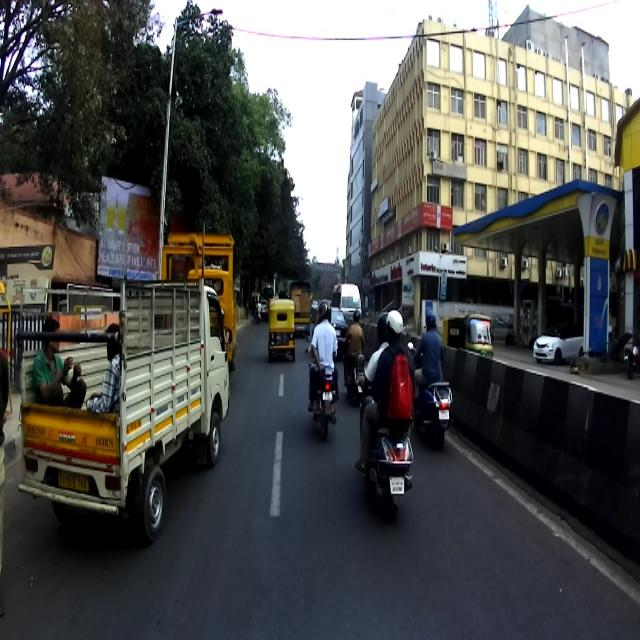motorcycle_Hero: (304, 332, 338, 441)
scooter: (357, 378, 415, 524), (406, 337, 452, 448)
truck: (15, 251, 239, 545)
